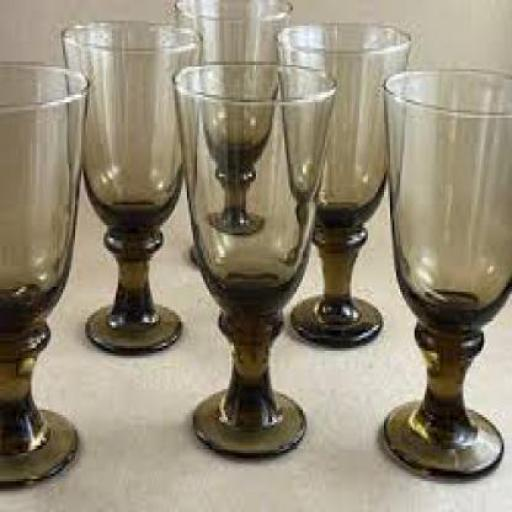glass: (170, 59, 336, 460), (380, 66, 510, 479), (58, 18, 202, 351), (274, 20, 412, 346), (1, 58, 89, 487), (172, 0, 293, 234)
